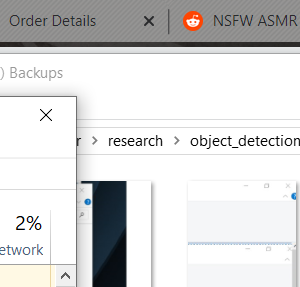close: (33, 103, 59, 127), (137, 9, 159, 30)
